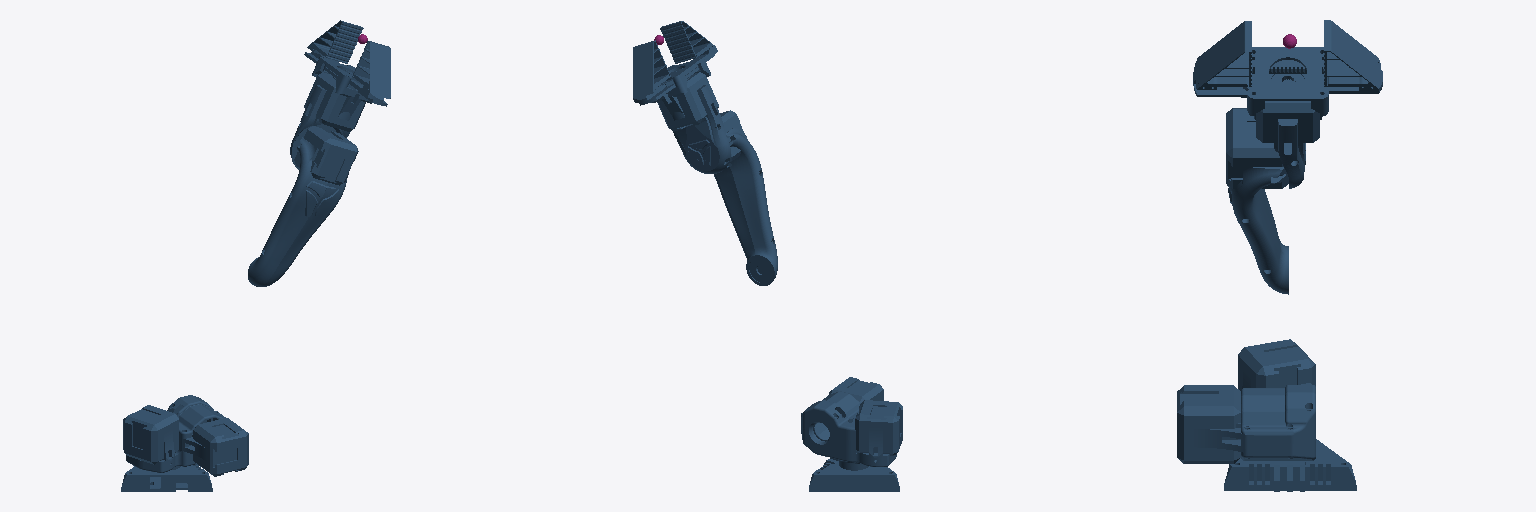
URDF robot description (orion5):
<?xml version="1.0"?>
  <robot name="orion5">

  <material name="grey">
    <color rgba="0.25 0.37 0.48 1"/>
  </material>
  <material name="invisible">
    <color rgba="0.6 0.2 0.48 0"/>
  </material>


    <link name="base_link">
      <visual>
        <geometry>
          <mesh filename="package://orion5/urdf/stl/base_link_SCALED.stl"/>
        </geometry>
        <origin xyz="0 0 0" rpy="0 0 0" />
        <material name="grey"/>
      </visual>
    </link>

    <joint name="base_servo" type="revolute">
      <parent link="base_link"/>
      <child link="turret"/>
      <origin xyz="0 0 0.018" rpy="0 0 3.14" />
      <axis xyz="0 0 -1" />
      <limit effort="30" velocity="1.0" lower="0.0" upper="6.28"/>
    </joint>

    <link name="turret">
      <visual>
        <geometry>
          <mesh filename="package://orion5/urdf/stl/turret_scaled_translated.stl"/>
        </geometry>
        <material name="grey"/>
        <origin xyz="0 0 0" rpy="0 0 0" />
      </visual>
    </link>

    <joint name="shoulder" type="revolute">
      <parent link="turret"/>
      <child link="bicep"/>
      <origin xyz="-0.030309 0 0.033 " rpy="0 0 0" />
      <axis xyz="0 1 0" />
      <limit effort="30" velocity="1.0" lower="0.1" upper="2.1"/>
    </joint>

    <link name="bicep">
      <visual>
        <origin xyz="0 0 0" rpy="0 0 0" />
        <geometry>
          <mesh filename="package://orion5/urdf/stl/bicep_SCALED.stl"/>
        </geometry>
        <material name="grey"/>
      </visual>
    </link>

    <joint name="elbow" type="revolute">
      <parent link="bicep"/>
      <child link="forearm"/>
      <limit effort="30" velocity="1.0" lower="0.349066" upper="5.93412"/>
      <origin xyz="-0.17384 0 0" rpy="0 3.14 0" />
      <axis xyz="0 1 0" />
    </joint>

    <link name="forearm">
      <visual>
        <geometry>
          <mesh filename="package://orion5/urdf/stl/forearm_SCALED.stl"/>
        </geometry>
        <material name="grey"/>
      </visual>
    </link>

    <joint name="wrist" type="revolute">
      <parent link="forearm"/>
      <child link="hand"/>
      <limit effort="30" velocity="1.0" lower="0.785398" upper="5.49779"/>
      <origin xyz="-0.136307 0 0" rpy="0 3.14 0" />
      <axis xyz="0 1 0" />
    </joint>

    <link name="hand">
      <visual>
        <geometry>
          <mesh filename="package://orion5/urdf/stl/hand_SCALED.stl"/>
        </geometry>
        <material name="grey"/>
      </visual>
    </link>

    <joint name="claw" type="prismatic">
      <parent link="hand"/>
      <child link="gripper1"/>
      <limit effort="30" velocity="1.0" lower="0.01" upper="0.04"/>
      <origin xyz="0 0 0" rpy="0 0 0" />
      <axis xyz="0 -1 0" />
    </joint>

    <link name="gripper1">
      <visual>
        <geometry>
          <mesh filename="package://orion5/urdf/stl/gripper1_SCALED.stl"/>
        </geometry>
        <material name="grey"/>
      </visual>
    </link>

    <joint name="claw2" type="prismatic">
      <parent link="hand"/>
      <child link="gripper2"/>
      <limit effort="30" velocity="1.0" lower="0.01" upper="0.04"/>
      <origin xyz="0 0 0" rpy="0 0 0" />
      <axis xyz="0 1 0" />
      <mimic joint="claw" multiplier="1" offset="0"/>
    </joint>

    <link name="gripper2">
      <visual>
        <geometry>
          <mesh filename="package://orion5/urdf/stl/gripper2_SCALED.stl"/>
        </geometry>
        <material name="grey"/>
      </visual>
    </link>

    <joint name="phantom_tooltip_joint" type="fixed">
      <parent link="hand"/>
      <child link="grasp_point"/>
      <origin xyz="-0.12 0 0" rpy="0 -1.5708 0" />
    </joint>

    <link name="grasp_point">
      <visual>
        <geometry>
          <sphere radius="0.005"/>
        </geometry>
        <material name="invisible"/>
      </visual>
    </link>

  </robot>

--- Render facts (derived) ---
The picture shows the robot from 3 angles, left to right: view 1: azimuth 30°, elevation 25°; view 2: azimuth 150°, elevation 25°; view 3: azimuth 270°, elevation 25°; orthographic projection.
Robot: orion5 — 8 links, 7 joints (4 revolute, 2 prismatic, 1 fixed); root link base_link; default pose: all joints at 0 but 5 set to mid-range because 0 is outside their limits (shoulder = 1.1, elbow = 3.14, wrist = 3.14, claw = 0.025, claw2 = 0.025).
Links seen in each view (by area): view 1: turret, forearm, hand, base_link, gripper2, gripper1; view 2: turret, forearm, hand, base_link, gripper1, gripper2; view 3: turret, hand, forearm, base_link, gripper2, gripper1.
Link boxes in pixels (x1=…): turret: x1=123, y1=395, x2=248, y2=476; forearm: x1=248, y1=126, x2=358, y2=286; hand: x1=290, y1=57, x2=371, y2=169; base_link: x1=121, y1=464, x2=212, y2=491; gripper2: x1=325, y1=41, x2=390, y2=106; gripper1: x1=304, y1=20, x2=363, y2=89; turret: x1=801, y1=377, x2=902, y2=470; forearm: x1=714, y1=110, x2=777, y2=285; hand: x1=651, y1=57, x2=730, y2=173; base_link: x1=809, y1=458, x2=899, y2=491; gripper1: x1=633, y1=40, x2=698, y2=105; gripper2: x1=660, y1=21, x2=717, y2=88; turret: x1=1177, y1=339, x2=1315, y2=463; hand: x1=1247, y1=47, x2=1328, y2=188; forearm: x1=1226, y1=108, x2=1288, y2=294; base_link: x1=1224, y1=439, x2=1356, y2=491; gripper2: x1=1193, y1=21, x2=1323, y2=97; gripper1: x1=1243, y1=20, x2=1382, y2=93.
Size in the robot's own frame: 0.2939 by 0.1416 by 0.4456 metres.
Meshes: 7 distinct files referenced, 6 mesh visuals loaded (6 binary STL); not drawn: 1 (reference not matched to a file when rendering).